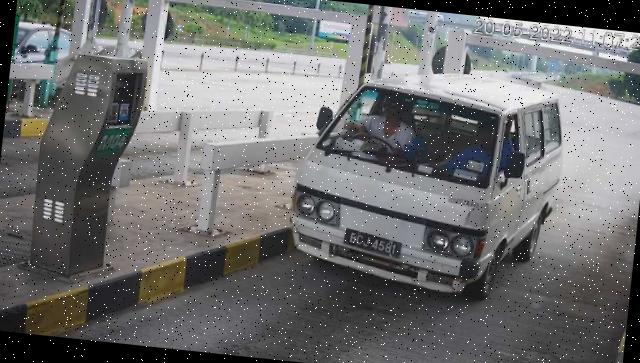License_Plate: (342, 228, 407, 263)
van: (284, 58, 572, 309)
